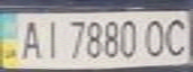0: (118, 16, 142, 60)
7: (63, 17, 87, 60)
8: (84, 17, 106, 60), (103, 17, 124, 60)
A: (15, 16, 45, 61)
C: (160, 15, 193, 58)
I: (36, 16, 63, 61)
O: (139, 16, 172, 58)
